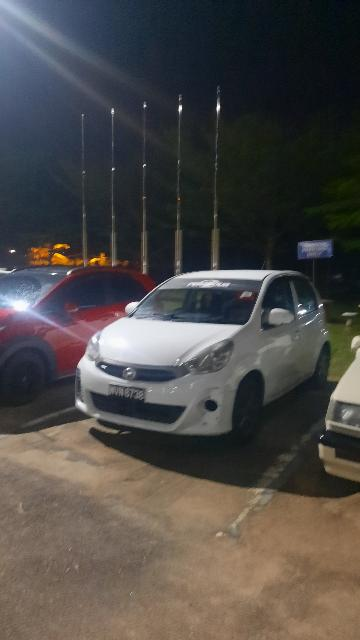License_Plate: (105, 380, 150, 406)
car: (72, 268, 332, 440)
